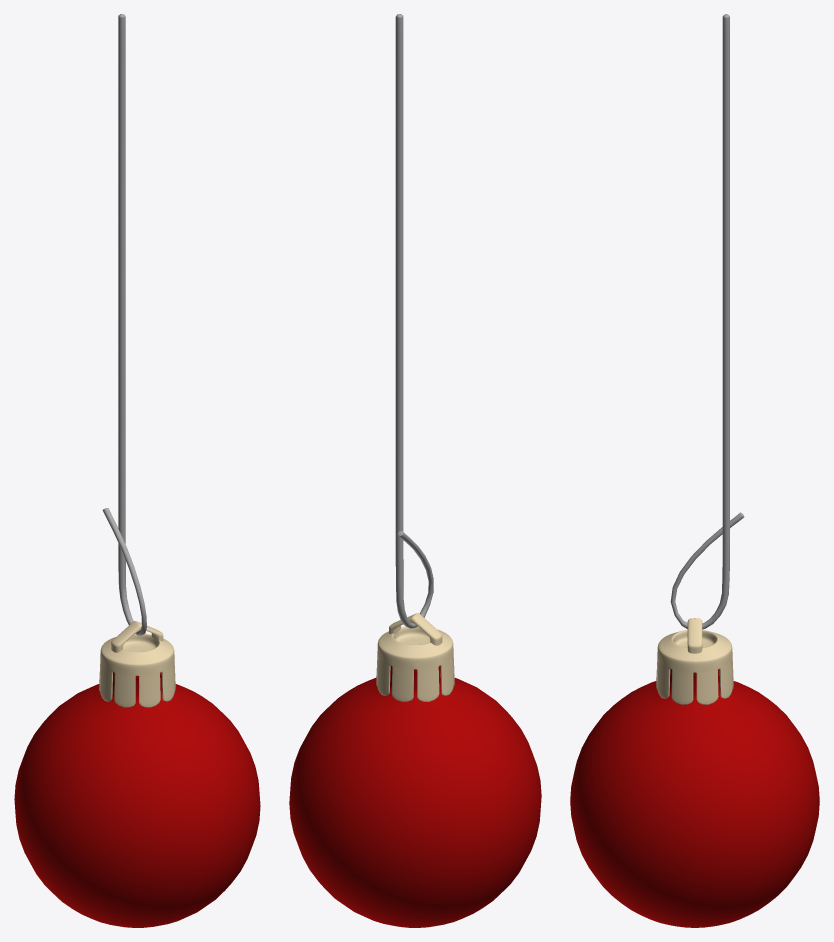
File: Christmas ornament SubD.fbx
3 renders of one model, left to right at view 1: azimuth 30°, elevation 25°; view 2: azimuth 150°, elevation 25°; view 3: azimuth 270°, elevation 25°, orthographic. The views are drawn at different scales.
Visible parts, largest first — view 1: Ball1, Wire1, Cap1, Hook1; view 2: Ball1, Wire1, Cap1, Hook1; view 3: Ball1, Wire1, Cap1, Hook1.
Part boxes in pixels (left/top/right/bottom): Ball1: left=14, top=672, right=260, bottom=927; Wire1: left=102, top=14, right=146, bottom=635; Cap1: left=99, top=633, right=175, bottom=707; Hook1: left=111, top=621, right=163, bottom=652; Ball1: left=289, top=665, right=541, bottom=927; Wire1: left=395, top=14, right=433, bottom=628; Cap1: left=376, top=626, right=454, bottom=701; Hook1: left=389, top=613, right=442, bottom=645; Ball1: left=570, top=669, right=819, bottom=927; Wire1: left=670, top=14, right=744, bottom=629; Cap1: left=656, top=630, right=733, bottom=704; Hook1: left=687, top=618, right=702, bottom=653.
Size of the model in its own units: 7.91 by 31.54 by 7.91.
